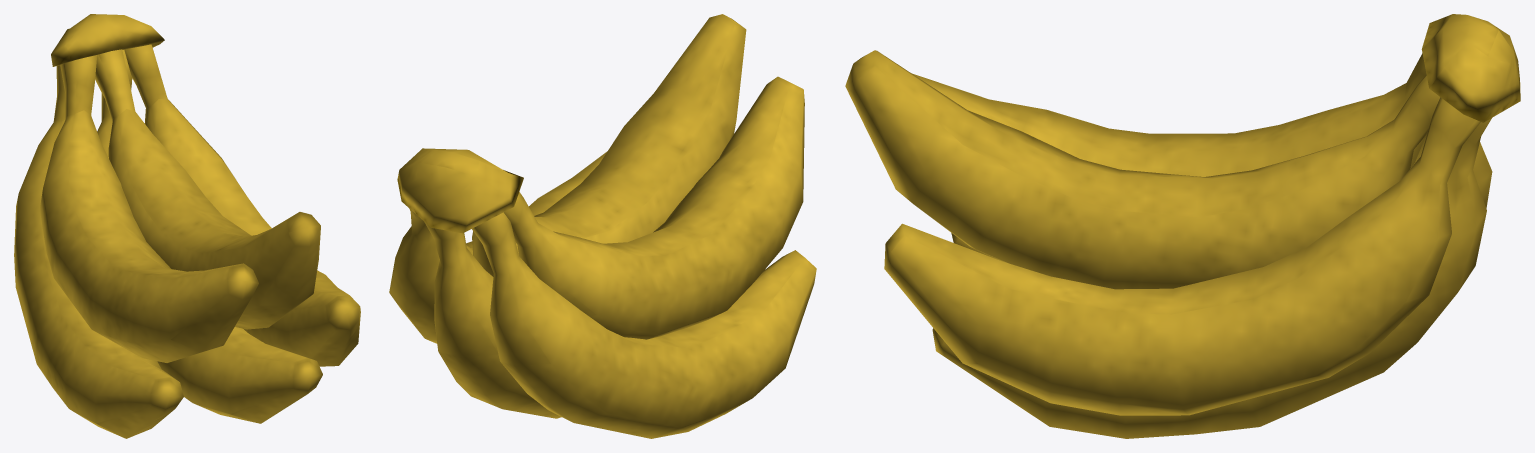
Rendered from Banana.fbx.
3 renders of one model, left to right at view 1: azimuth 30°, elevation 25°; view 2: azimuth 150°, elevation 25°; view 3: azimuth 270°, elevation 25°, orthographic. The views are drawn at different scales.
Visible parts, largest first — view 1: Banana; view 2: Banana; view 3: Banana.
Part boxes in pixels (left/top/right/bottom): Banana: left=14, top=14, right=360, bottom=438; Banana: left=389, top=14, right=816, bottom=438; Banana: left=845, top=14, right=1520, bottom=438.
Bounding box in the file's own units: 16.01 × 18.32 × 27.23.
